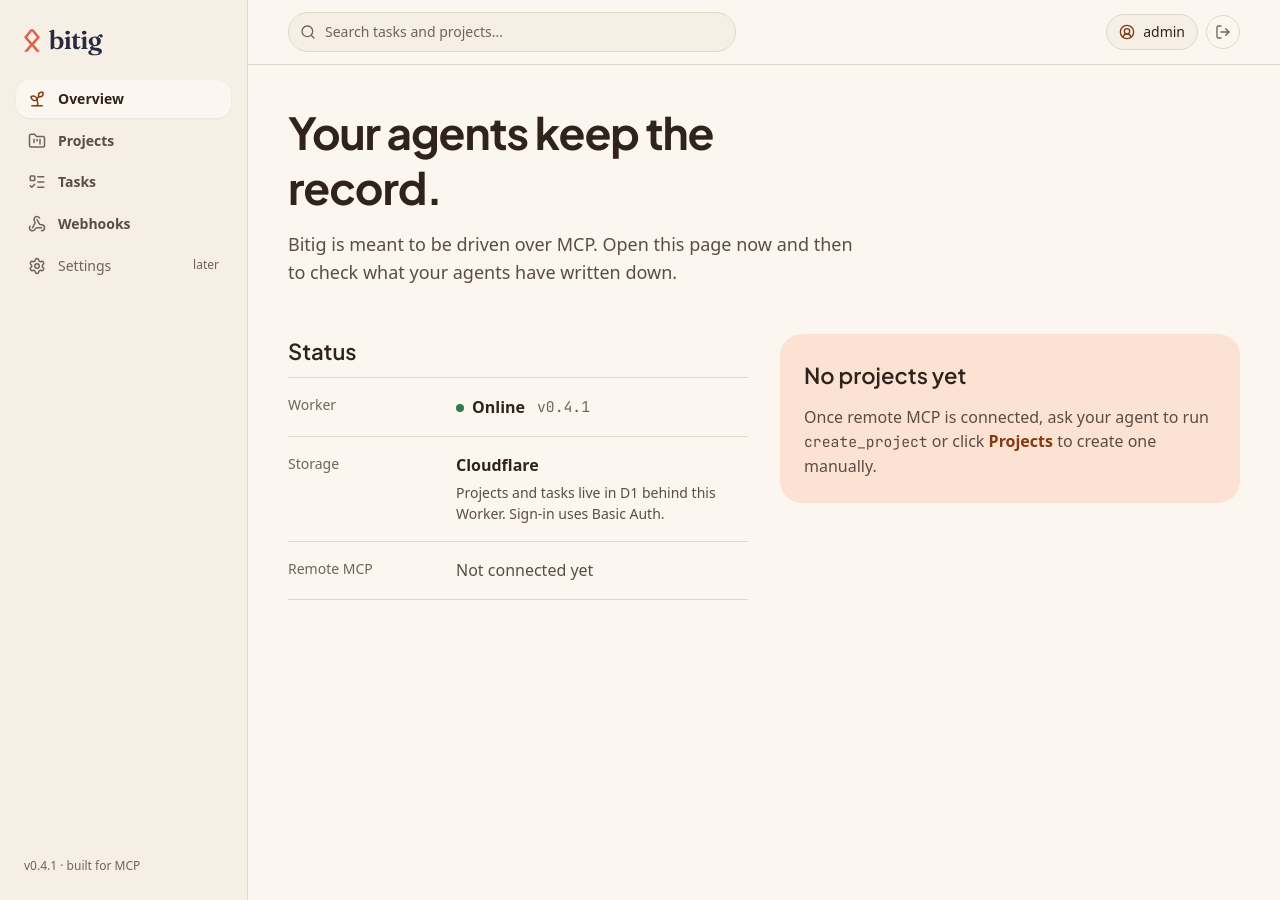
Test case: Dashboard Phase 4 Integration › navigates between Overview, Projects, and Tasks tabs
Expected: the heading "Your agents keep the record." is shown, 288,104 -> 713,215
# Click Projects tab in primary nav
Click the link "Projects": (71, 140) 28,131 -> 114,150
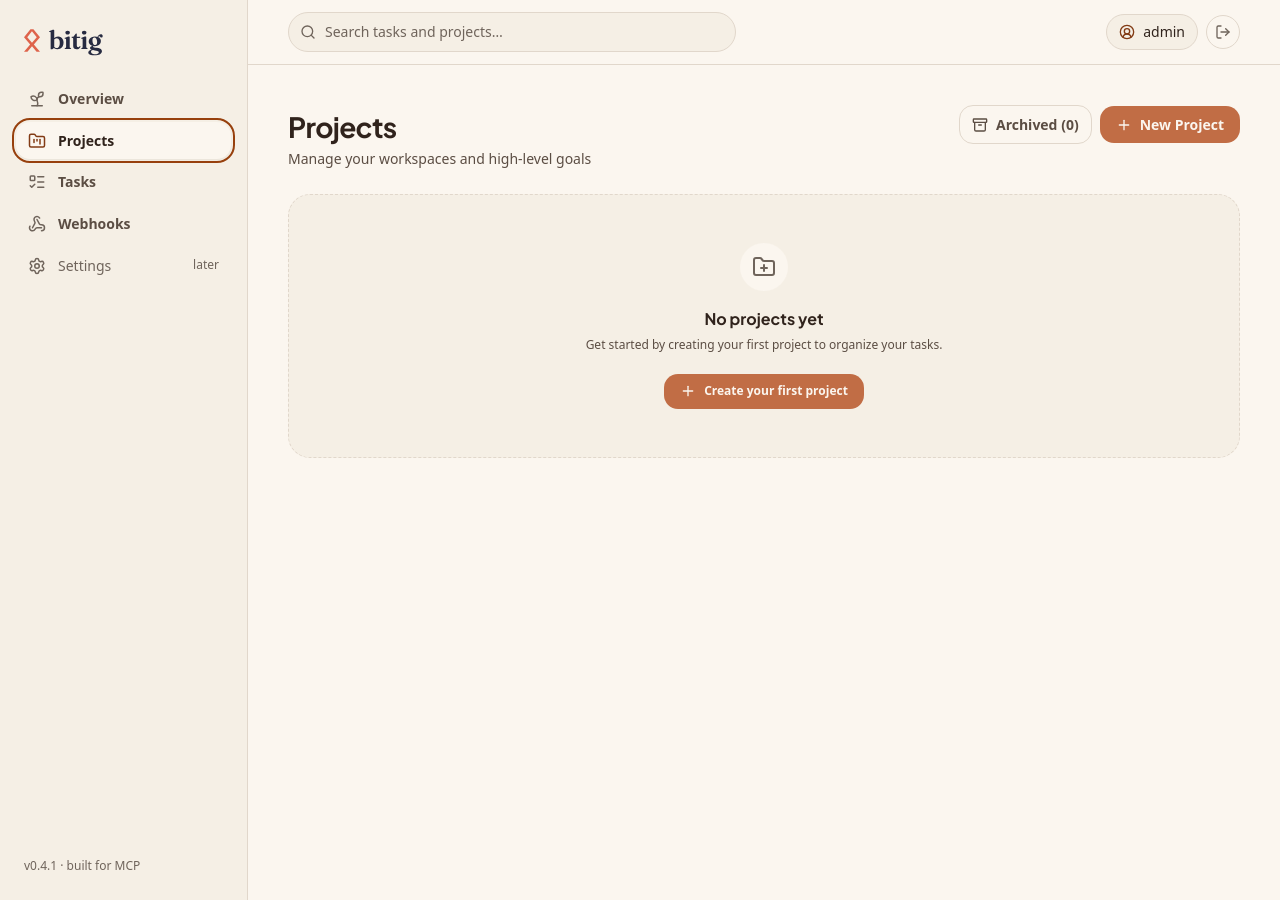
Result: the heading "Projects" is shown at 288,109 -> 396,144
Result: the button "New Project" is shown at 1100,106 -> 1240,143
# Click Tasks tab in primary nav
Click the link "Tasks": (62, 182) 28,172 -> 96,191
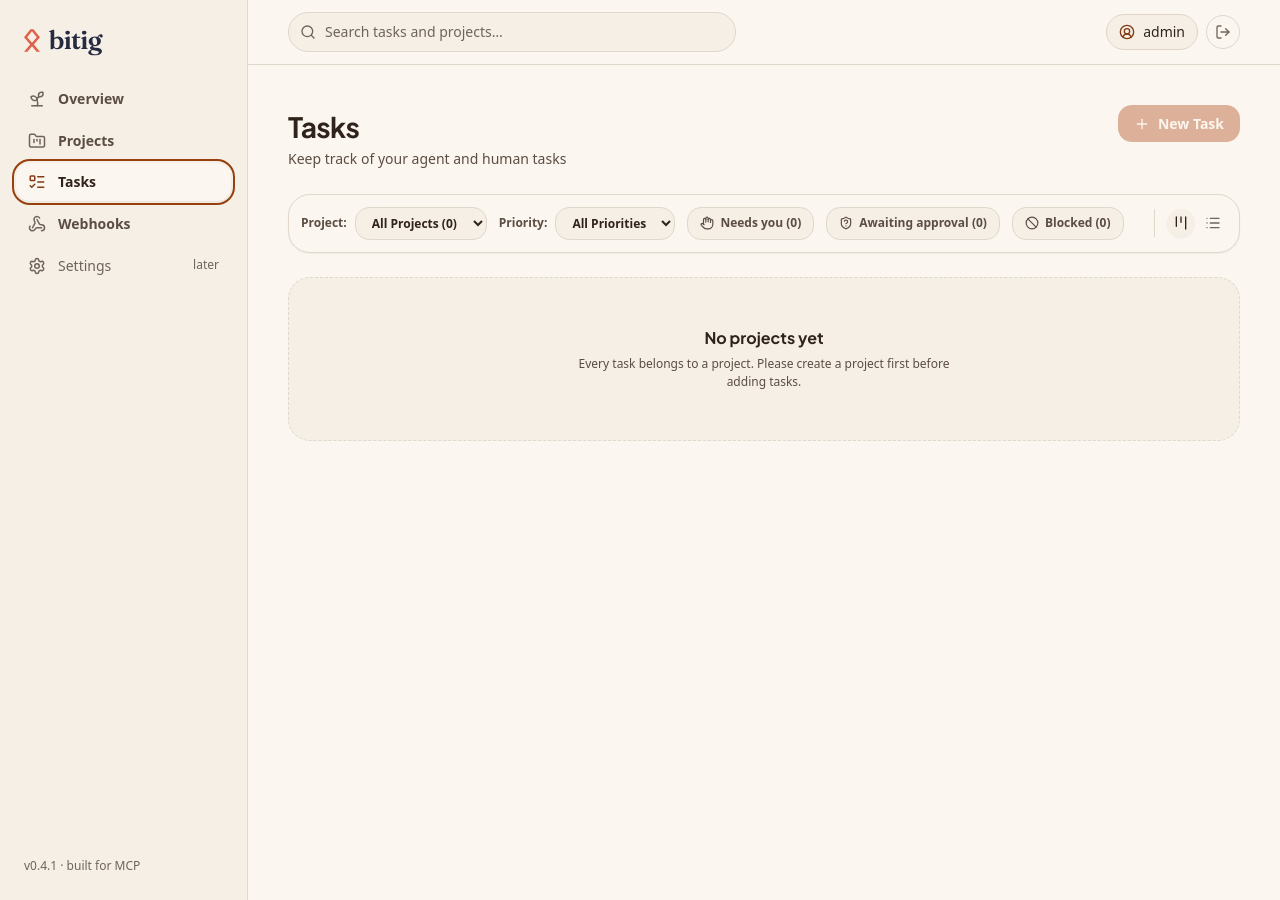
Result: the heading "Tasks" is shown at 288,109 -> 359,144
Result: the button "New Task" is shown at 1118,105 -> 1240,142
# Click Webhooks tab in primary nav
Click the link "Webhooks": (79, 224) 28,214 -> 131,233
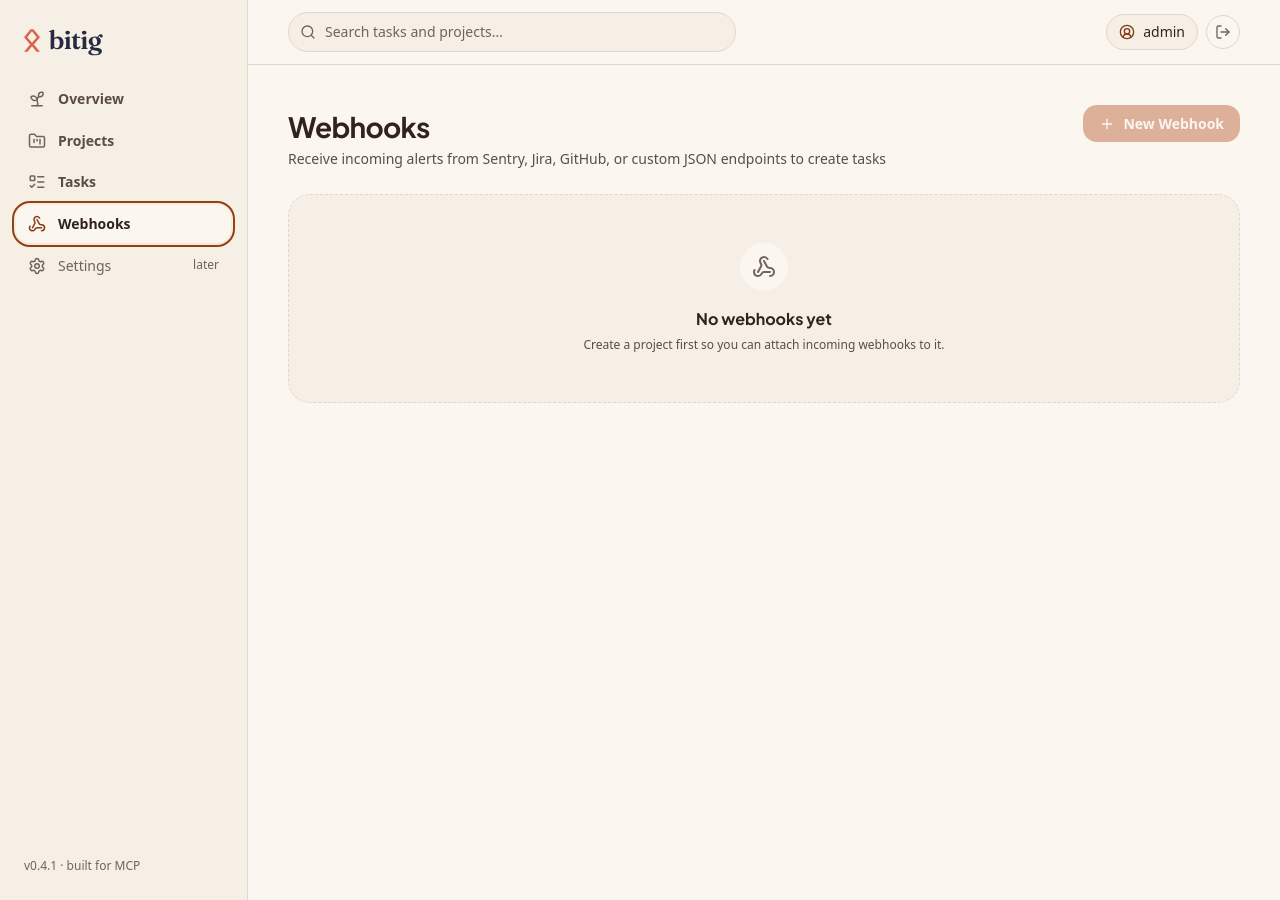
Result: the heading "Webhooks" is shown at 288,109 -> 430,144
Result: the button "New Webhook" is shown at 1083,105 -> 1240,142
# Click back to Overview
Click the link "Overview": (76, 98) 28,89 -> 124,108
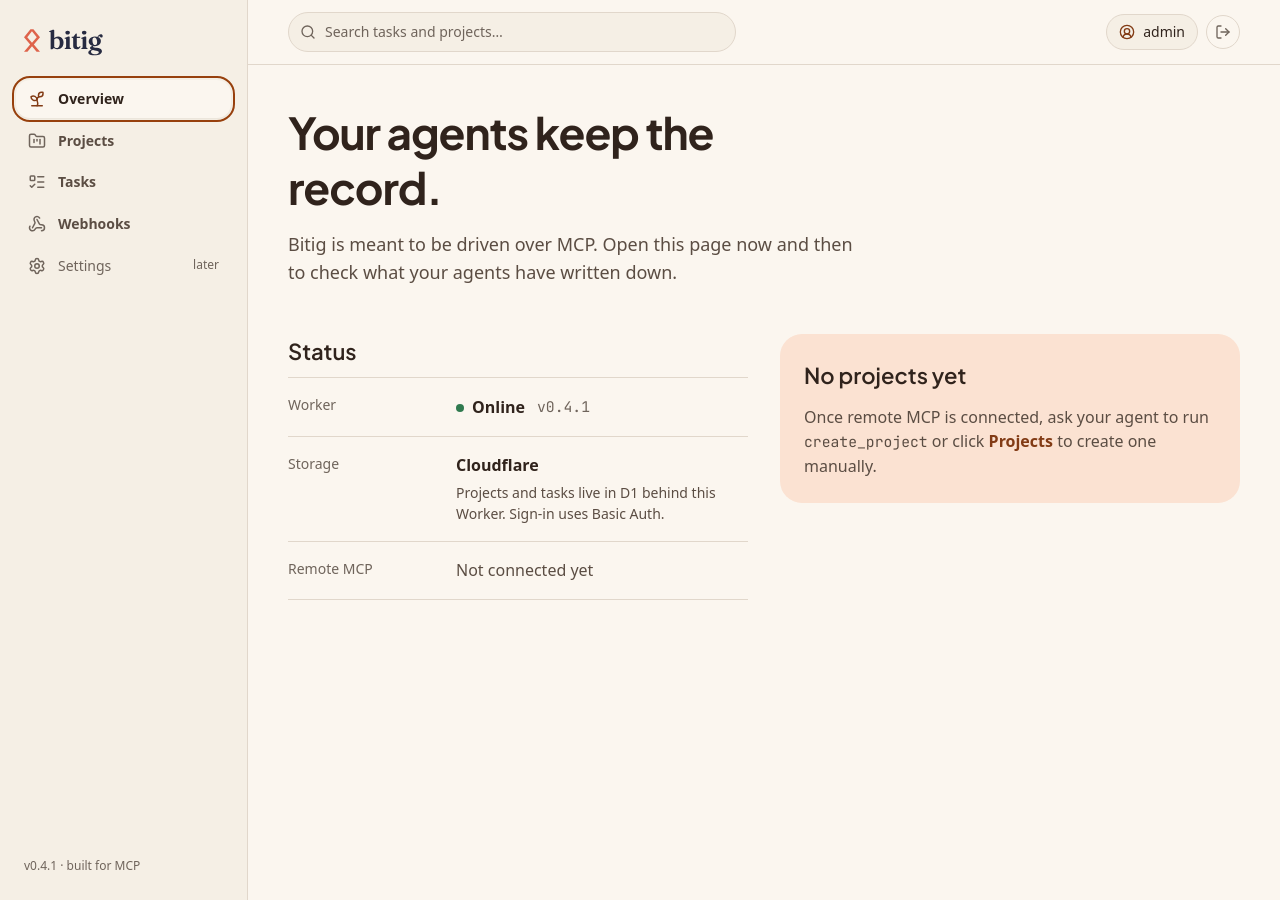
Result: the heading "Your agents keep the record." is shown at 288,104 -> 713,215
